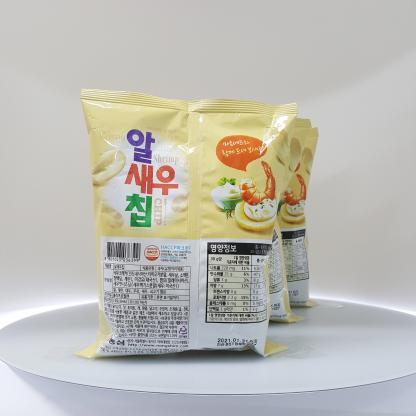Plastic Packaging: (67, 95, 298, 372)
